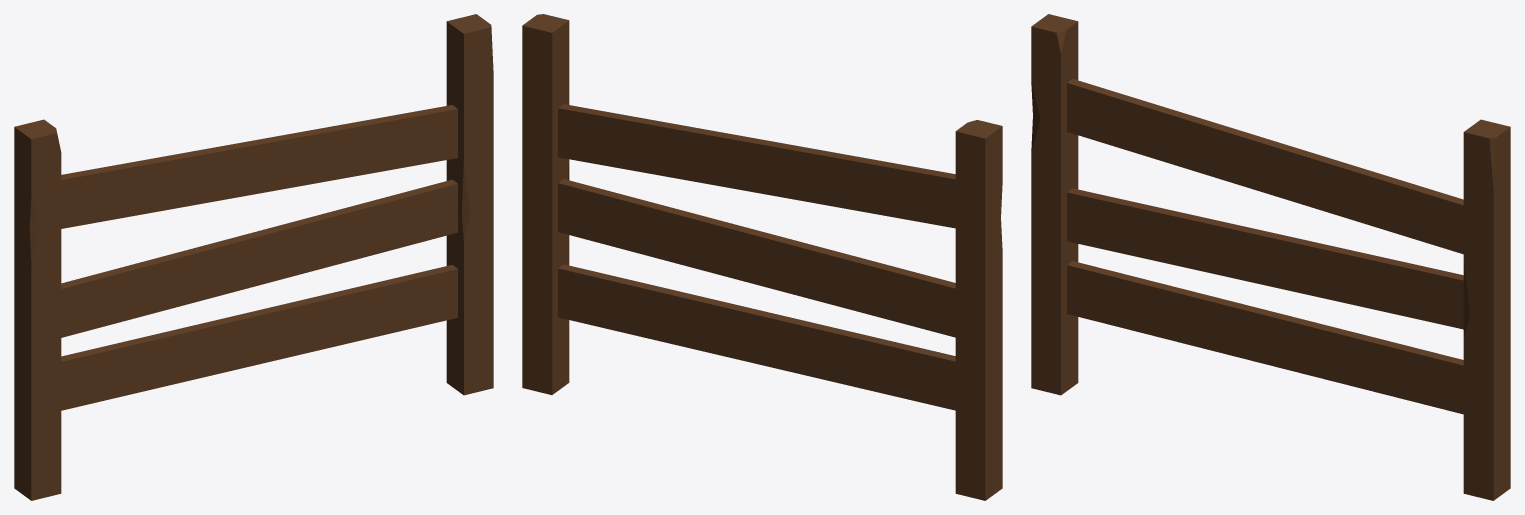
Rendered from fence01.fbx.
3 views of the same model, side by side, from view 1: azimuth 30°, elevation 25°; view 2: azimuth 150°, elevation 25°; view 3: azimuth 330°, elevation 25° (orthographic).
Visible parts, largest first — view 1: fence01; view 2: fence01; view 3: fence01.
Part boxes in pixels (x1,y1,x2,y2): fence01: (14,14,493,500); fence01: (522,14,1002,500); fence01: (1031,14,1510,500).
Size of the model in its own units: 209 by 156 by 13.52.
